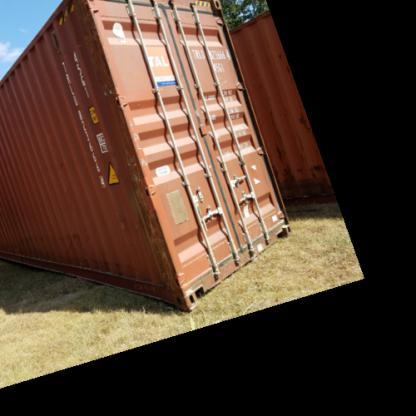Damage: (123, 168, 187, 290), (66, 2, 124, 107), (12, 226, 86, 251), (53, 152, 71, 173)
